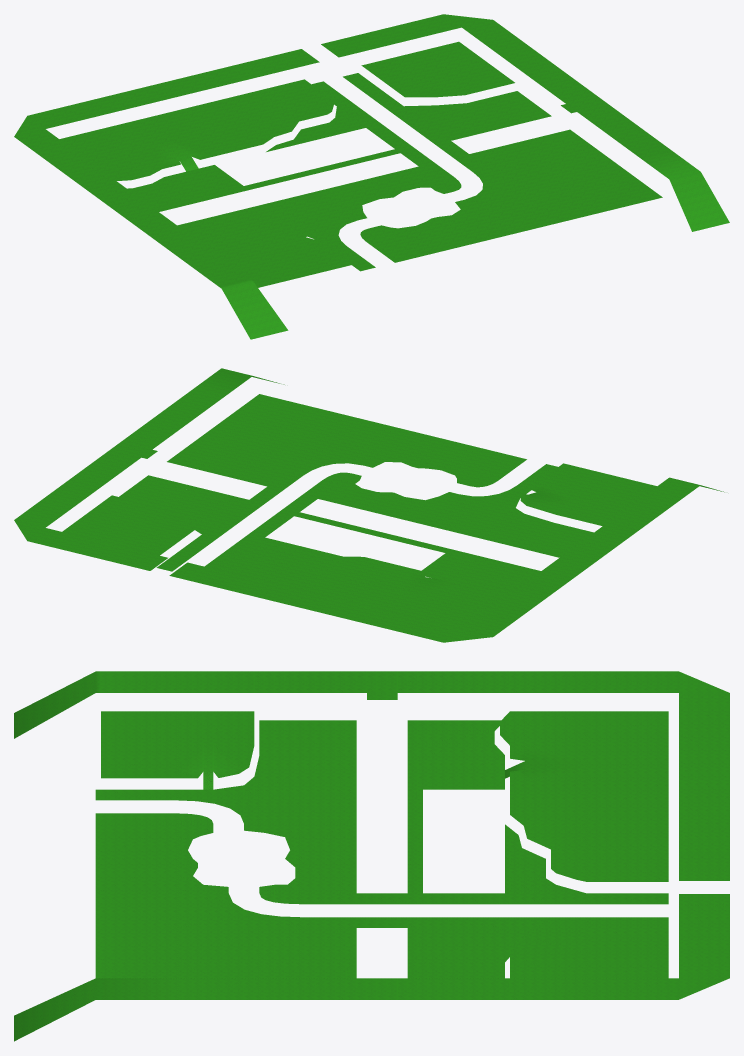
The model's file is world-grass.fbx.
3 views of the same model, one above another, from view 1: azimuth 30°, elevation 25°; view 2: azimuth 150°, elevation 25°; view 3: azimuth 270°, elevation 25° (orthographic). The views are drawn at different scales.
Parts seen in each view (by area): view 1: island-8x7-grass-col; view 2: island-8x7-grass-col; view 3: island-8x7-grass-col.
Boxes of the visible parts, <box> form: island-8x7-grass-col: <box>14,14,729,339</box>; island-8x7-grass-col: <box>14,368,724,642</box>; island-8x7-grass-col: <box>14,671,729,1041</box>.
Bounding box in the file's own units: 9728 × 576 × 8960.
